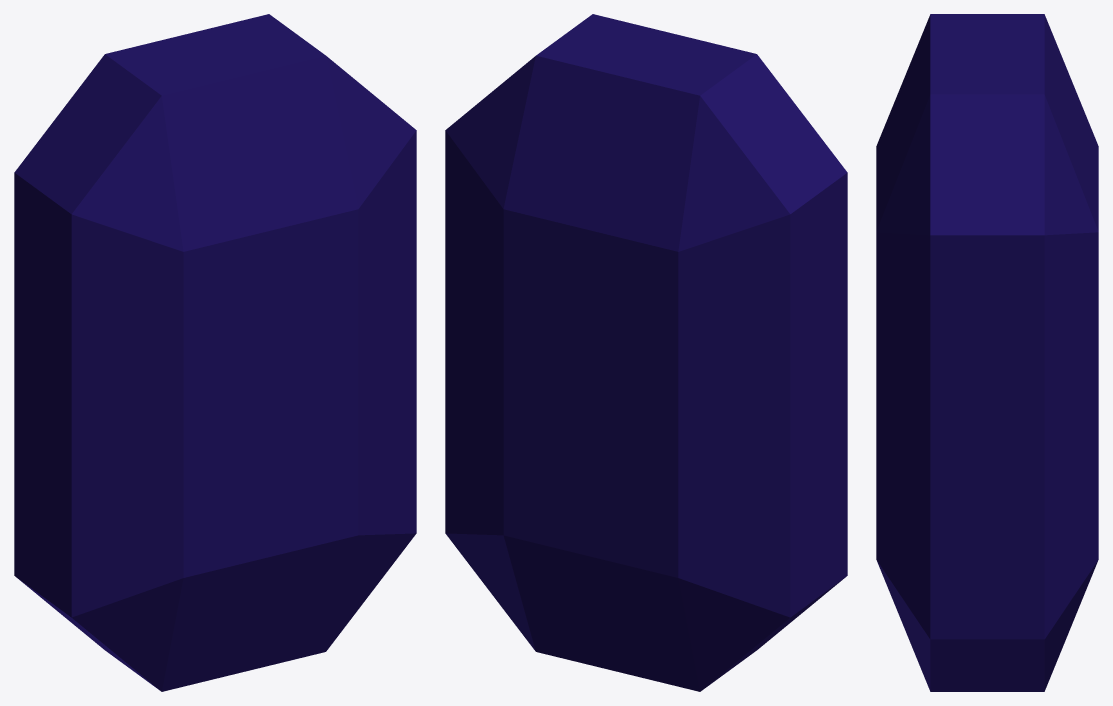
File: crystal1.obj
The picture shows the model from 3 angles, left to right: view 1: azimuth 30°, elevation 25°; view 2: azimuth 150°, elevation 25°; view 3: azimuth 270°, elevation 25°; orthographic projection.
Parts seen in each view (by area): view 1: Crystal1_Cube.001; view 2: Crystal1_Cube.001; view 3: Crystal1_Cube.001.
Part boxes in pixels (box(x1,y1,x2,y2)): Crystal1_Cube.001: box(14, 14, 416, 691); Crystal1_Cube.001: box(445, 14, 847, 691); Crystal1_Cube.001: box(876, 14, 1098, 691).
Bounding box in the file's own units: 0.458 × 0.7564 × 0.2554.
